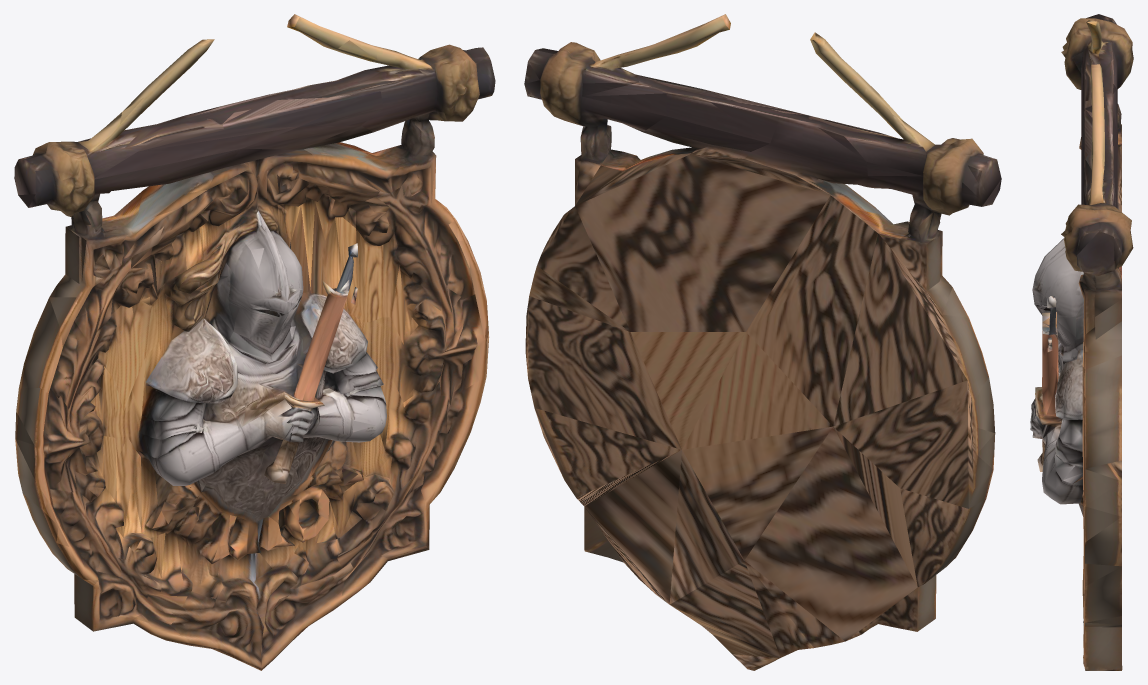
File: sign.glb
3 views of the same model, side by side, from view 1: azimuth 30°, elevation 25°; view 2: azimuth 150°, elevation 25°; view 3: azimuth 270°, elevation 25° (orthographic). The views are drawn at different scales.
Visible parts, largest first — view 1: tripo_node_d8754c95; view 2: tripo_node_d8754c95; view 3: tripo_node_d8754c95.
Part boxes in pixels (x1,y1,x2,y2): tripo_node_d8754c95: (14, 14, 495, 670); tripo_node_d8754c95: (524, 14, 1001, 670); tripo_node_d8754c95: (1030, 14, 1133, 670).
Size of the model in its own units: 1.22 by 1.63 by 0.244.
Materials: 1 (1 with a texture image).
